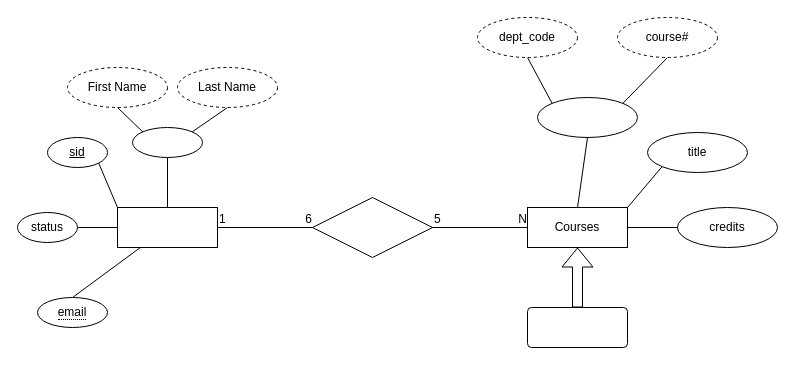
Some shapes in this 795 by 365 pixel diagram are drawn without their labels. Here are the shapes that lost their labels. From the top down, the box of each, then its label:
(536, 96, 638, 138): cid
(132, 126, 202, 158): Name
(116, 206, 218, 248): Student
(312, 196, 432, 258): Takes
(526, 306, 628, 348): Class
